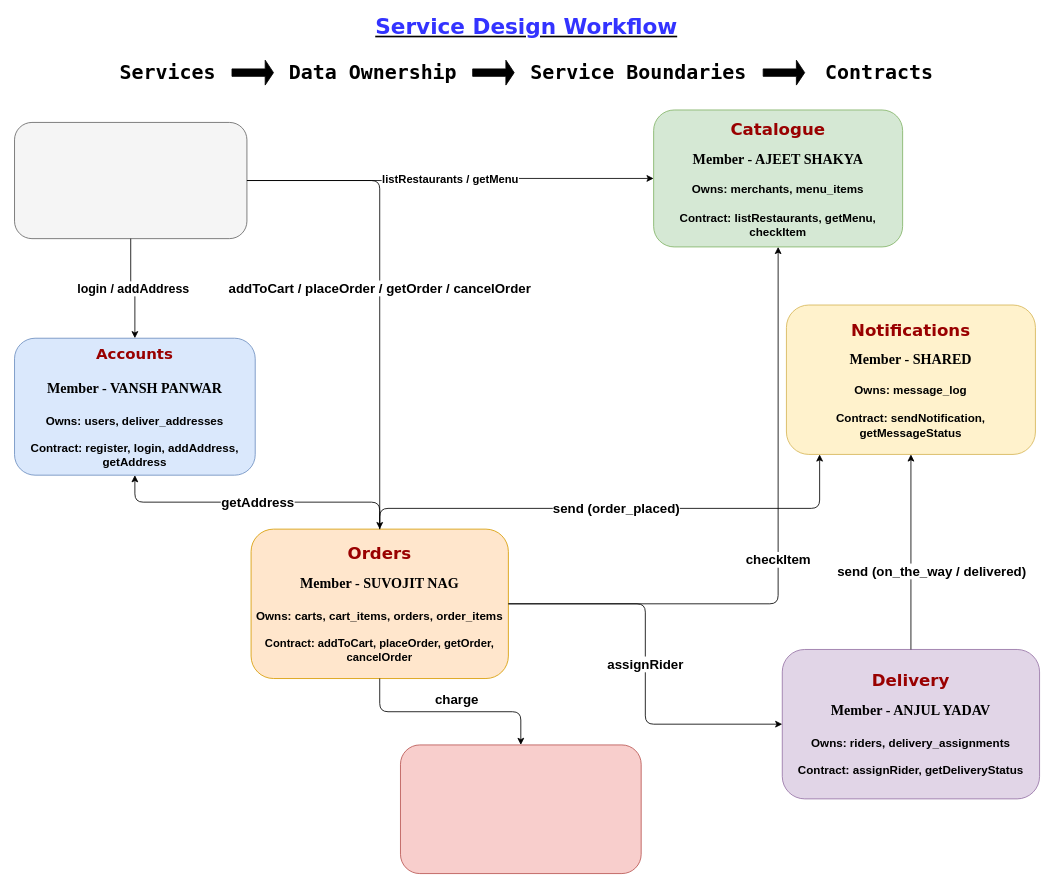
This 1054x888 diagram has some shape labels left out. Each missing label, with the centre of its shape:
"Payments Member - ANKIT Owns: transactions, refunds Contract: charge, refund" belongs at (x=520, y=809).
"Student App (client)" belongs at (x=130, y=180).
